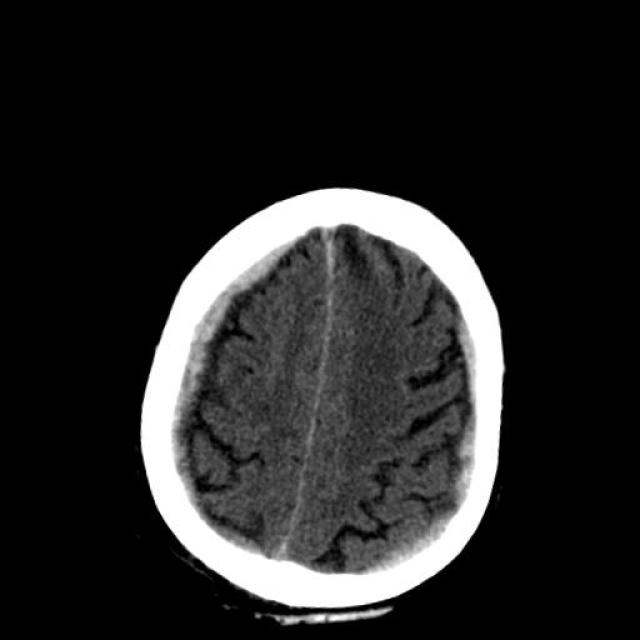Subdural: (128, 215, 322, 467), (356, 402, 520, 619)
